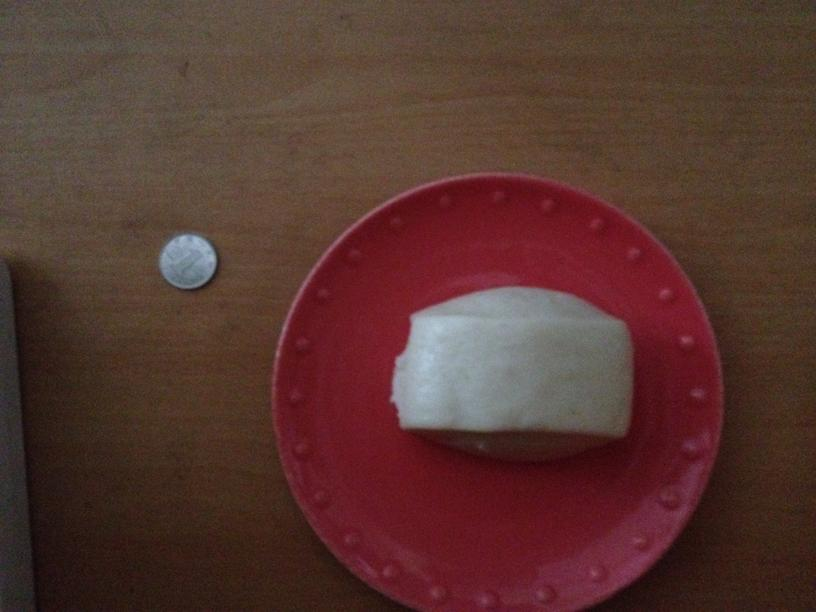bun: (395, 283, 631, 441)
coin: (156, 233, 220, 290)
